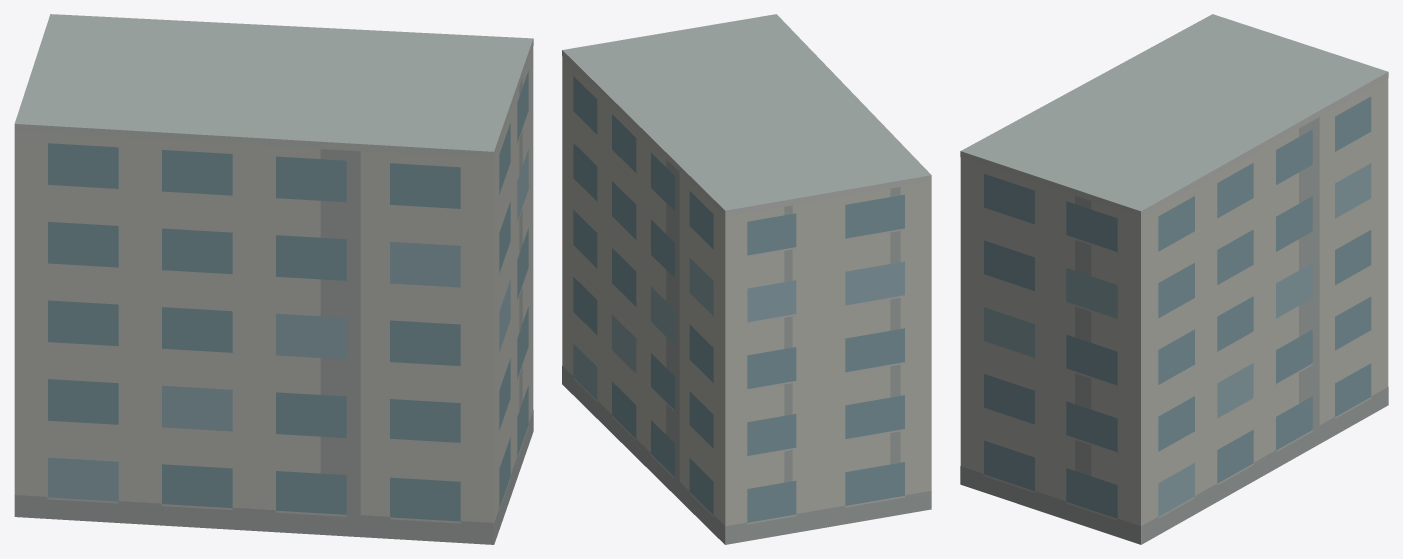
Rendered from survey-upis-32831610.glb.
3 renders of one model, left to right at view 1: azimuth 30°, elevation 25°; view 2: azimuth 150°, elevation 25°; view 3: azimuth 270°, elevation 25°, orthographic. The views are drawn at different scales.
Parts seen in each view (by area): view 1: survey-upis-32831610.tmp; view 2: survey-upis-32831610.tmp; view 3: survey-upis-32831610.tmp.
Part boxes in pixels (x1,y1,x2,y2): survey-upis-32831610.tmp: [14, 14, 533, 544]; survey-upis-32831610.tmp: [562, 14, 931, 544]; survey-upis-32831610.tmp: [960, 14, 1388, 544].
Size of the model in its own units: 16.44 by 12.95 by 15.06.
